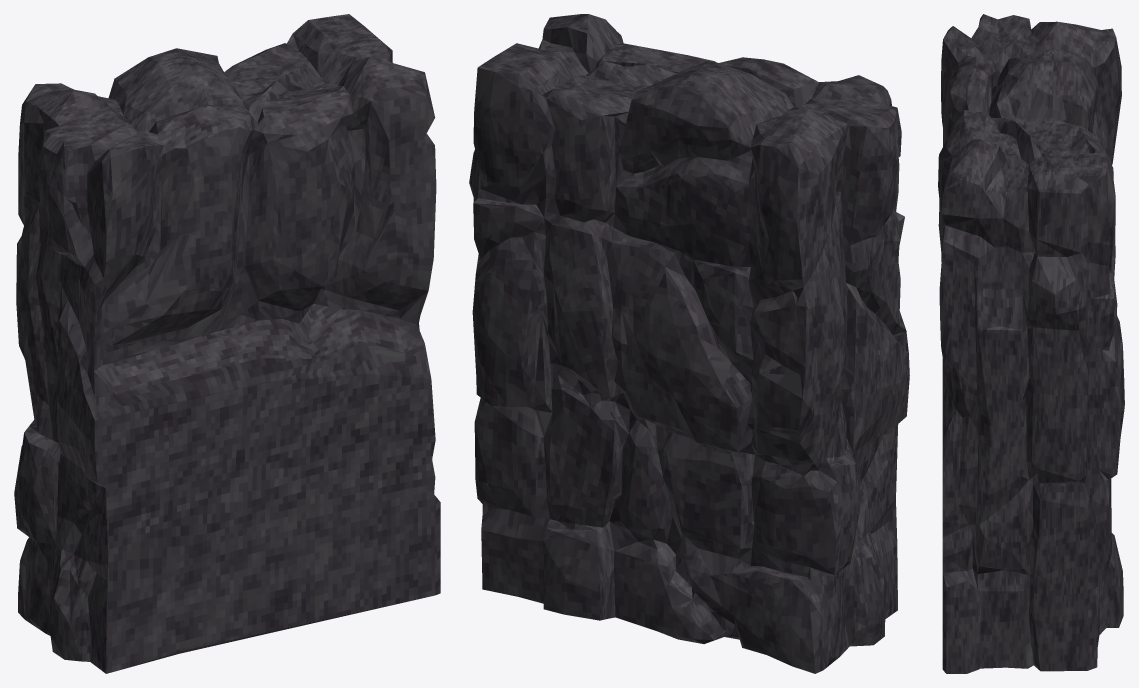
File: stone-wall1.glb
The picture shows the model from 3 angles, left to right: view 1: azimuth 30°, elevation 25°; view 2: azimuth 150°, elevation 25°; view 3: azimuth 270°, elevation 25°; orthographic projection. The views are drawn at different scales.
Parts seen in each view (by area): view 1: Cube; view 2: Cube; view 3: Cube.
Part boxes in pixels (bbox=[...]): Cube: bbox=[14, 14, 440, 673]; Cube: bbox=[469, 14, 909, 673]; Cube: bbox=[938, 14, 1124, 673].
Size of the model in its own units: 4.66 by 6.34 by 2.06.
1 material, 1 textured.
